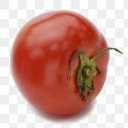tomato: (10, 9, 109, 116)
